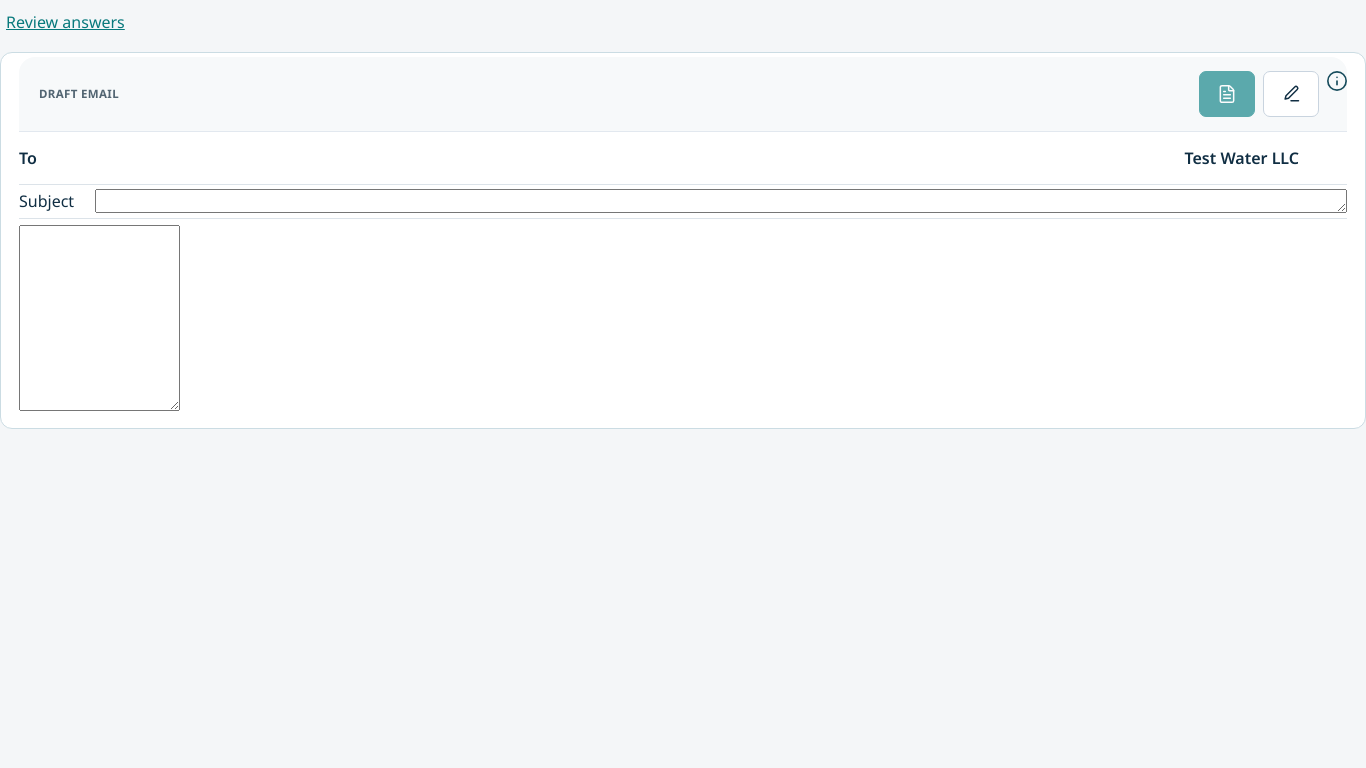
Test: Review keeps source provenance in citations without records or deletion controls
Click the button named "Cited sources" at {"x": 1337, "y": 81}, box [1315,59,1359,103]
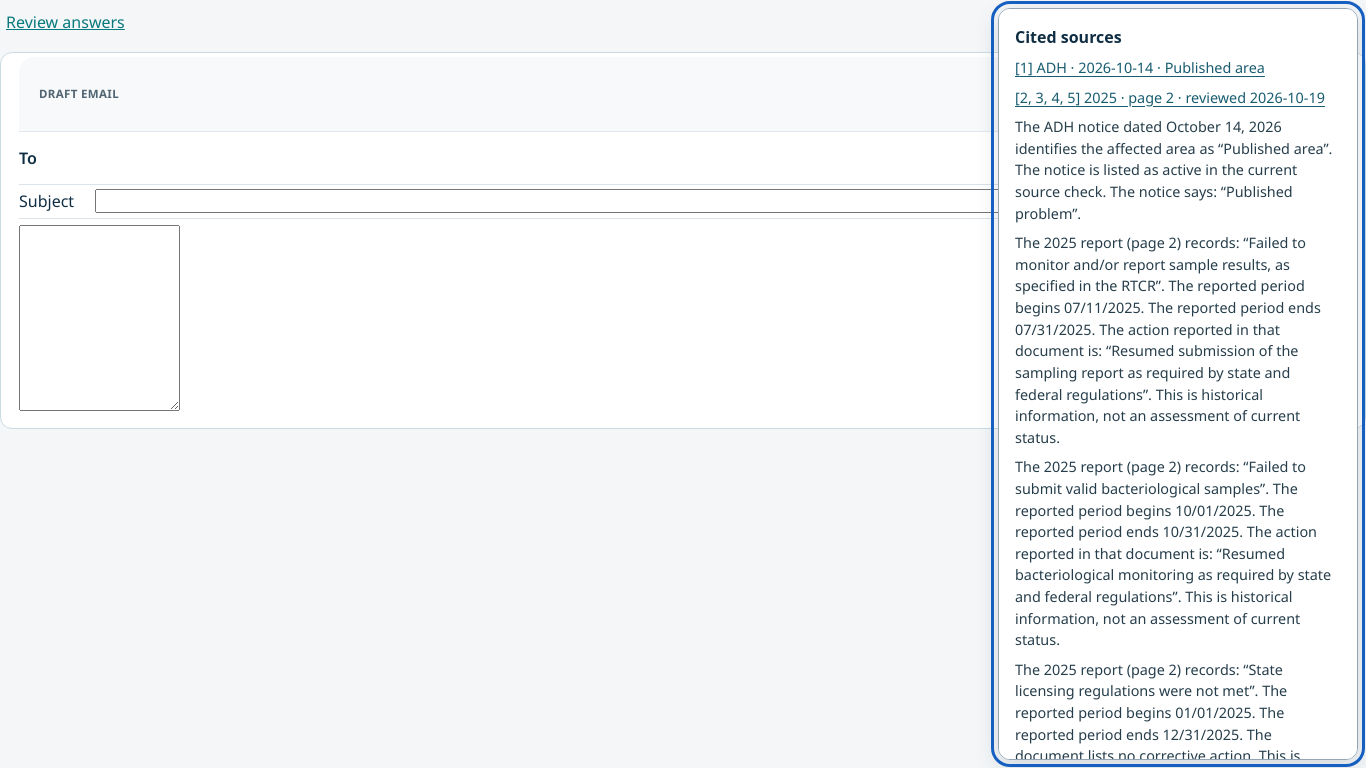
Result: the text "Published problem" is shown at [1015,117,1332,223]
